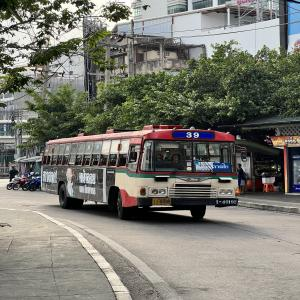BMTA-bus: (40, 125, 241, 221)
Bus Line Number: (185, 131, 201, 138)
Bus Side Number: (214, 198, 238, 206)
Destination Sign: (213, 162, 230, 172)
